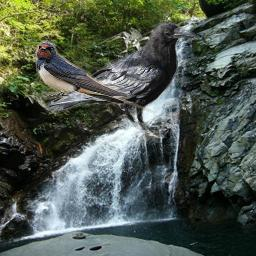Crow: (45, 20, 196, 139)
Swallow: (35, 40, 156, 113)
